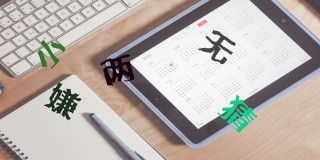两: (99, 54, 135, 87)
嫌: (43, 80, 81, 122)
小: (35, 39, 64, 68)
无: (198, 28, 237, 64)
猜: (216, 95, 258, 133)
